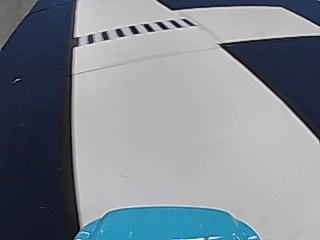CrossWalk: (81, 17, 191, 43)
